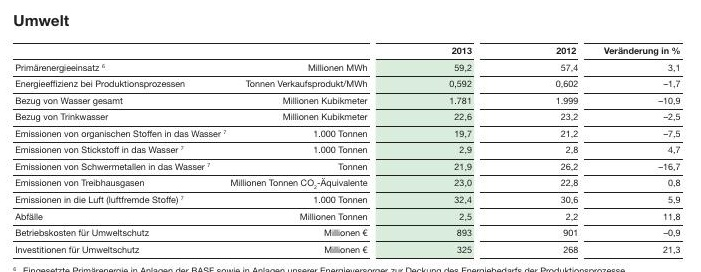table: (0, 0, 701, 272)
